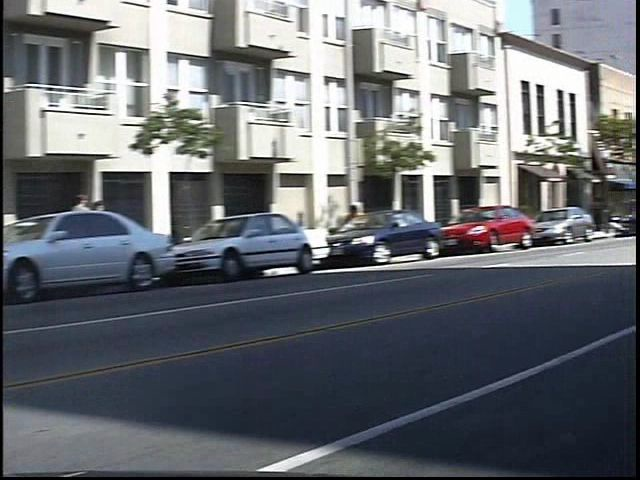person: (86, 185, 110, 265), (106, 196, 127, 261)
